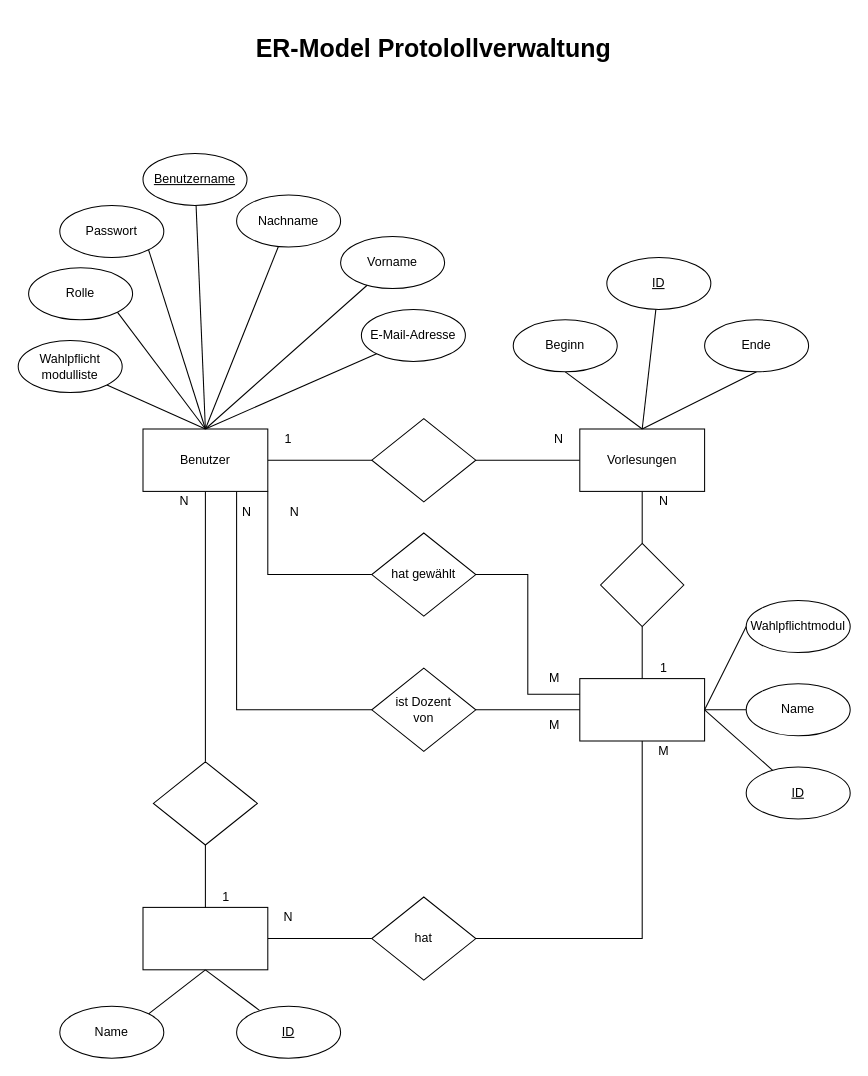
This 868x1076 diagram has some shape labels left out. The centre of each missing label's shape, as x and y in pixels:
"gehört zu" goes at (642,584).
"ist Teil von" goes at (204,803).
"Module" goes at (642,709).
"protokolliert" goes at (423,460).
"Studiengruppen" goes at (205,938).
